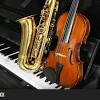Piano: (1, 23, 90, 100)
Saxophone: (12, 1, 64, 72)
Violin: (44, 1, 83, 86)
